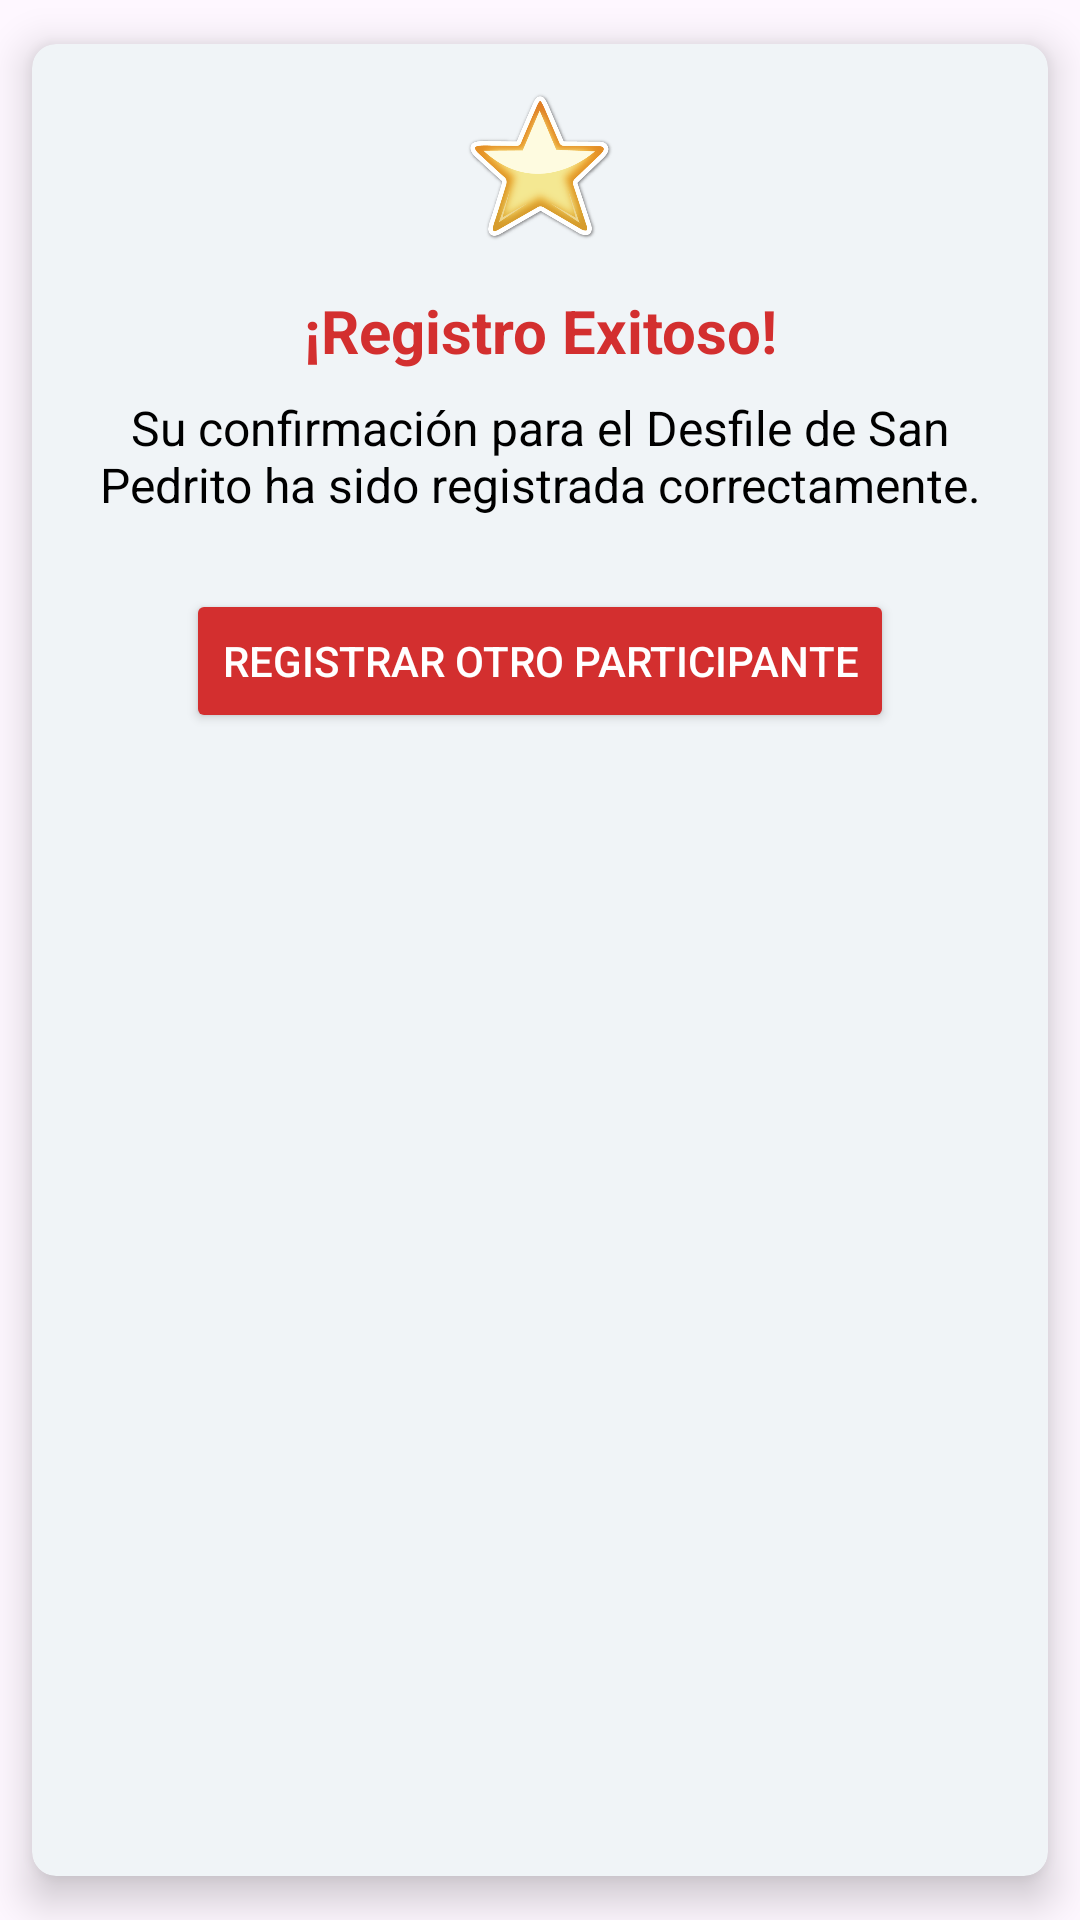

Icon click points for this 1080px x 1920px phone screenshot, format (x=x, y=y):
Icono de éxito: (x=540, y=167)
